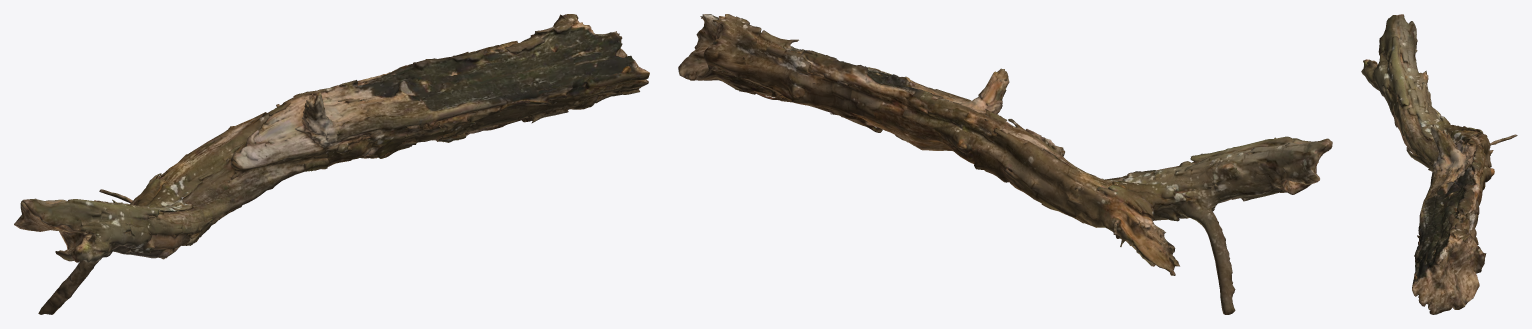
File: dead_tree_trunk_02.glb
3 views of the same model, side by side, from view 1: azimuth 30°, elevation 25°; view 2: azimuth 150°, elevation 25°; view 3: azimuth 270°, elevation 25° (orthographic). The views are drawn at different scales.
Parts seen in each view (by area): view 1: dead_tree_trunk_02; view 2: dead_tree_trunk_02; view 3: dead_tree_trunk_02.
Part boxes in pixels (x1=…): dead_tree_trunk_02: x1=14, y1=14, x2=649, y2=314; dead_tree_trunk_02: x1=678, y1=14, x2=1332, y2=314; dead_tree_trunk_02: x1=1361, y1=14, x2=1517, y2=314.
Size of the model in its own units: 4.05 by 1.05 by 1.06.
Materials: 1 (1 with a texture image).
